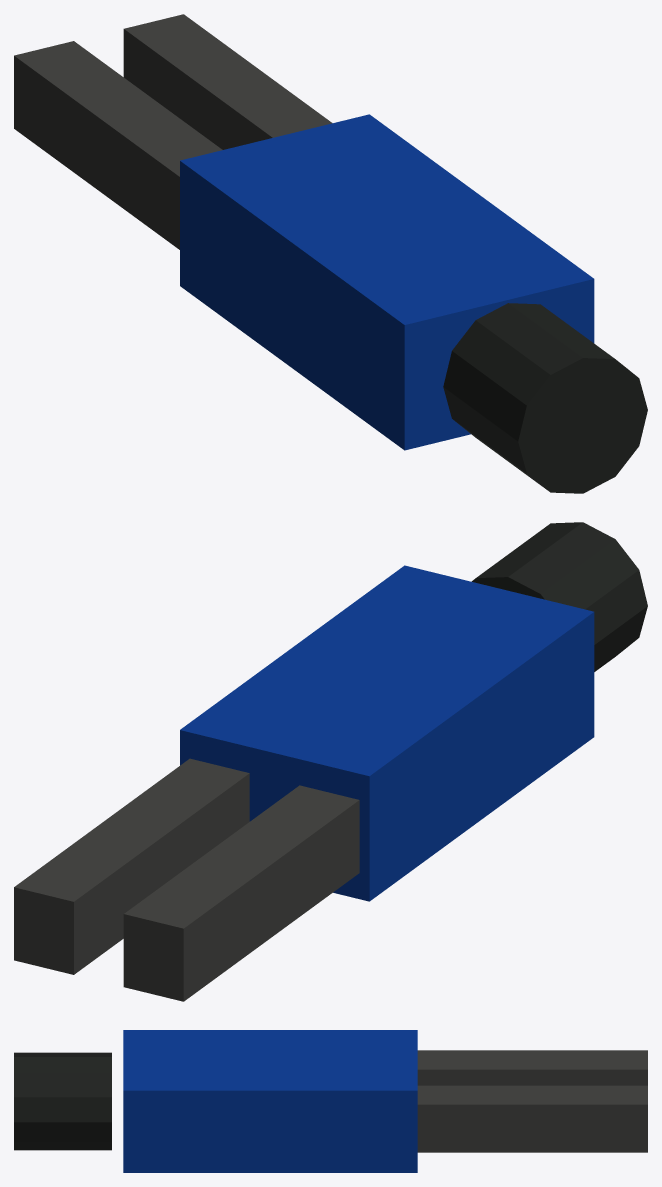
Rendered from pedestrian.obj.
3 views of the same model, one above another, from view 1: azimuth 30°, elevation 25°; view 2: azimuth 150°, elevation 25°; view 3: azimuth 270°, elevation 25° (orthographic). The views are drawn at different scales.
Parts seen in each view (by area): view 1: pedestrian; view 2: pedestrian; view 3: pedestrian.
Boxes of the visible parts, x1=… form: pedestrian: x1=14, y1=14, x2=647, y2=493; pedestrian: x1=14, y1=522, x2=647, y2=1001; pedestrian: x1=14, y1=1030, x2=647, y2=1172.
Size of the model in its own units: 0.38 by 0.26 by 1.68.
